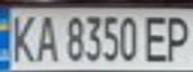0: (118, 12, 142, 63)
3: (81, 12, 106, 63)
5: (100, 12, 121, 63)
8: (60, 11, 84, 63)
A: (30, 11, 60, 63)
E: (139, 11, 172, 64)
K: (3, 10, 39, 64)
P: (160, 11, 193, 62)
